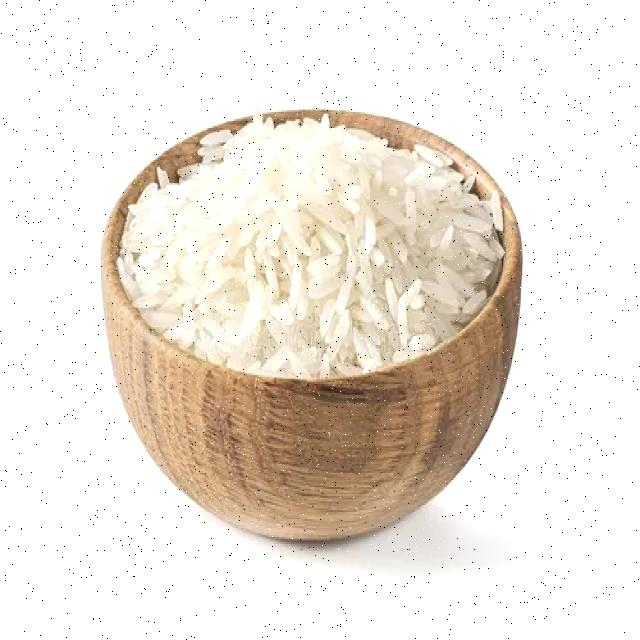Rice: (170, 155, 455, 337)
